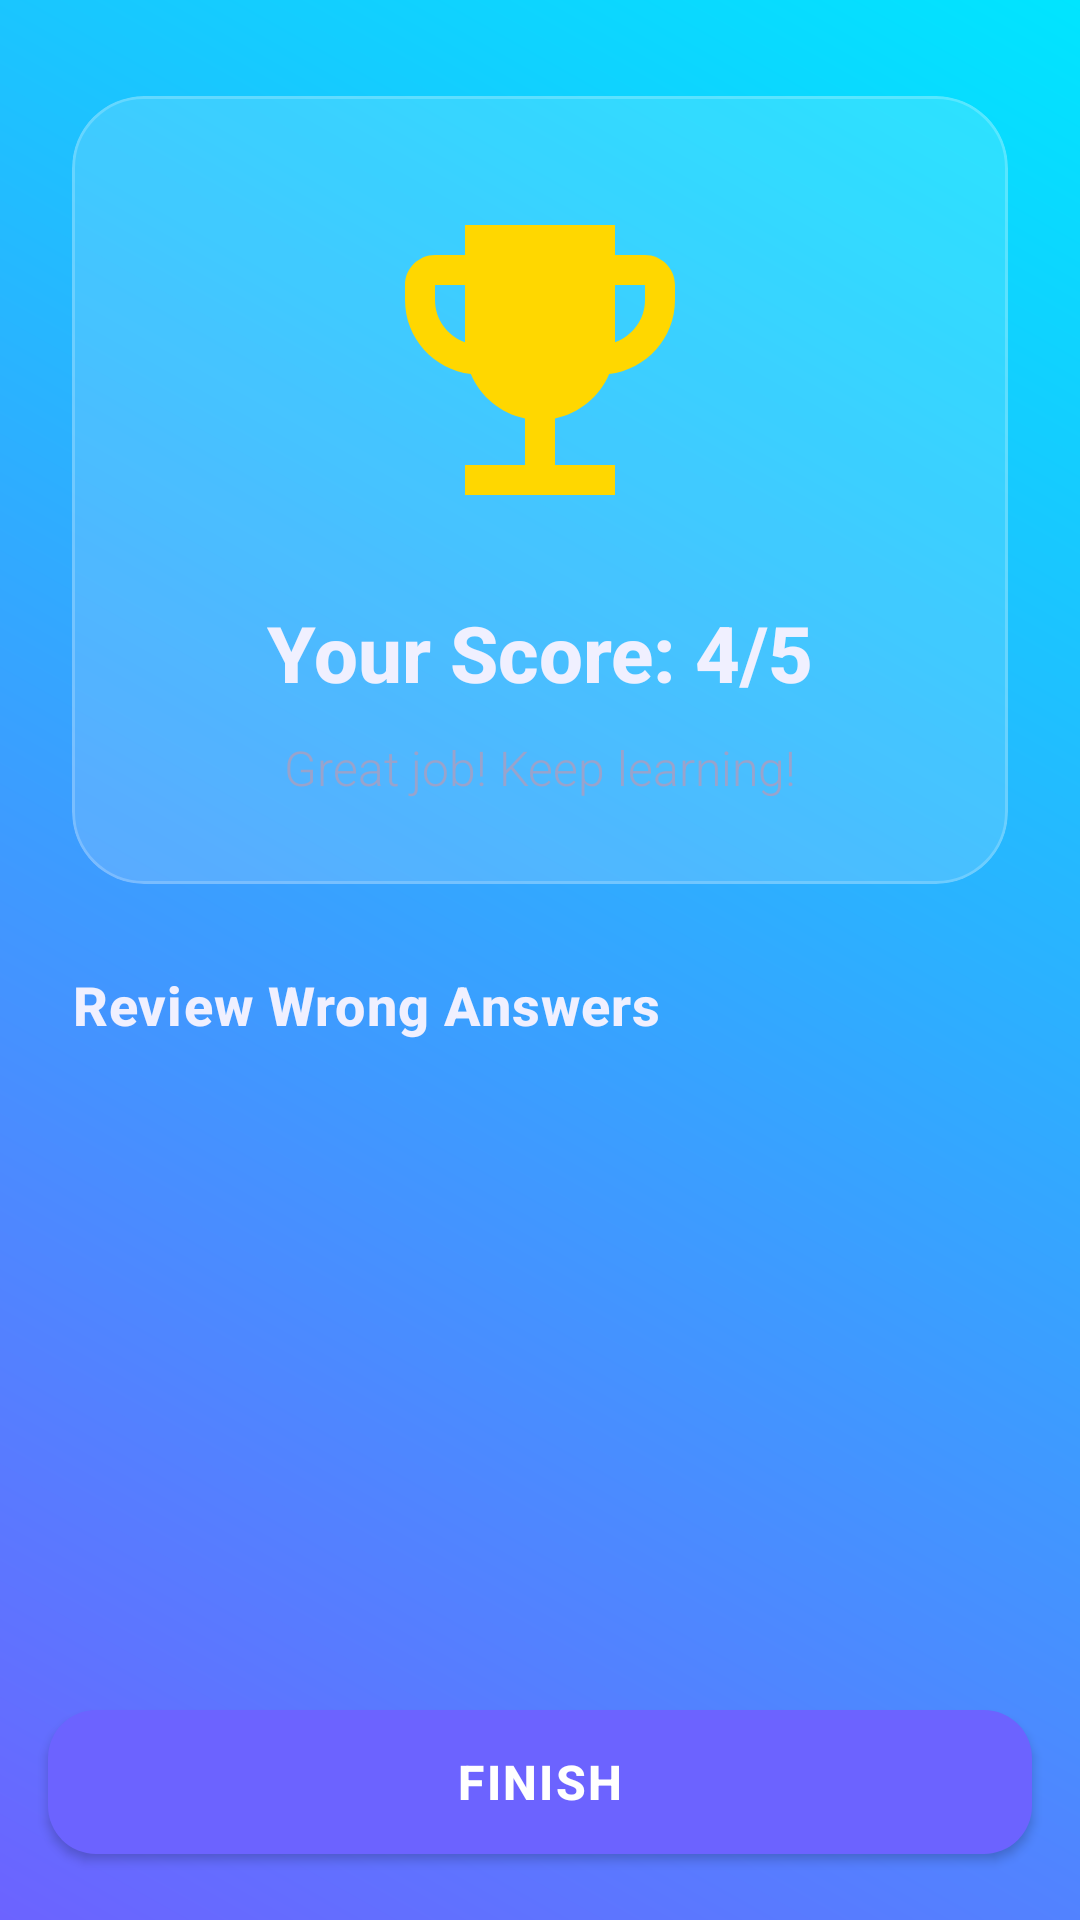

Screen size 1080 x 1920. Icon name, then its box in pixels as detection(x1, y1, x2, y2):
trophy: detection(405, 225, 675, 495)
